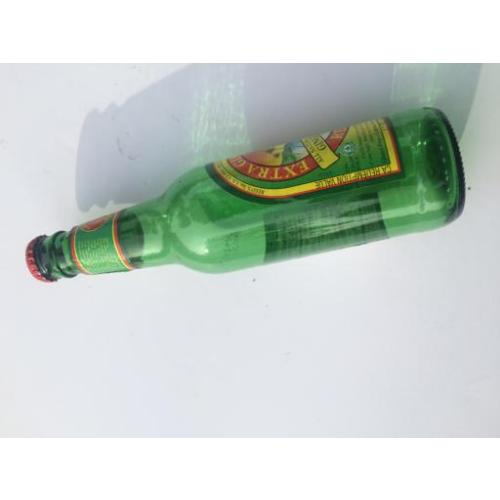glass: (33, 114, 460, 297)
